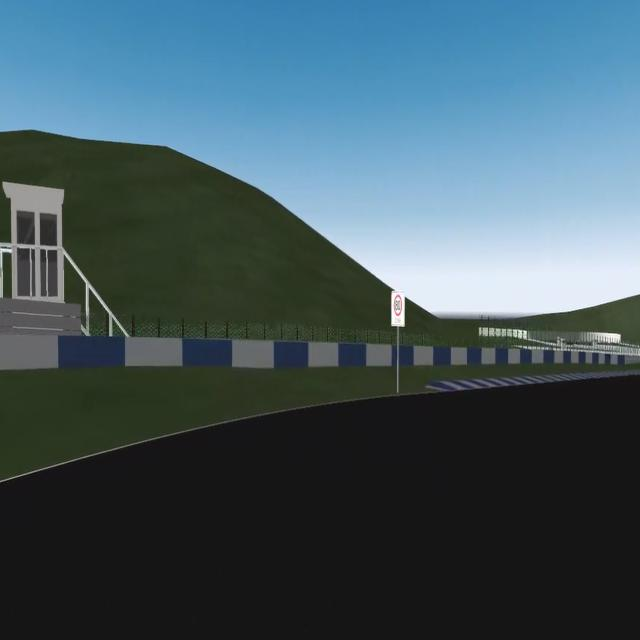Speed Limit -80-: (396, 300, 400, 311)
